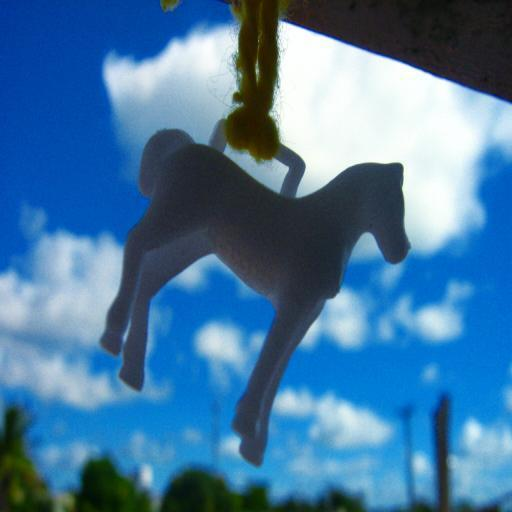horse: (98, 128, 410, 470)
